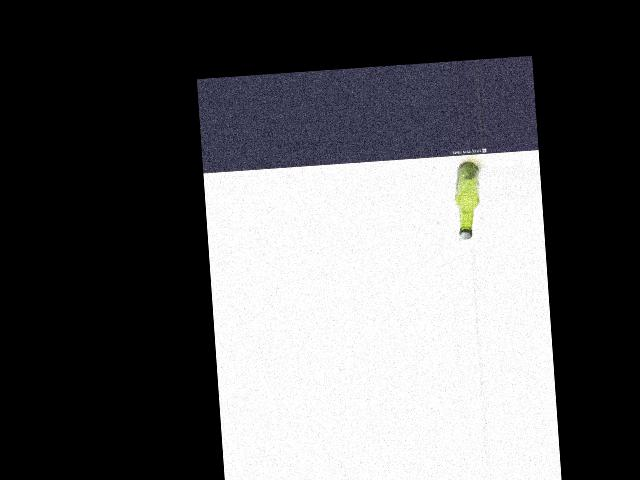beer: (454, 161, 483, 240)
